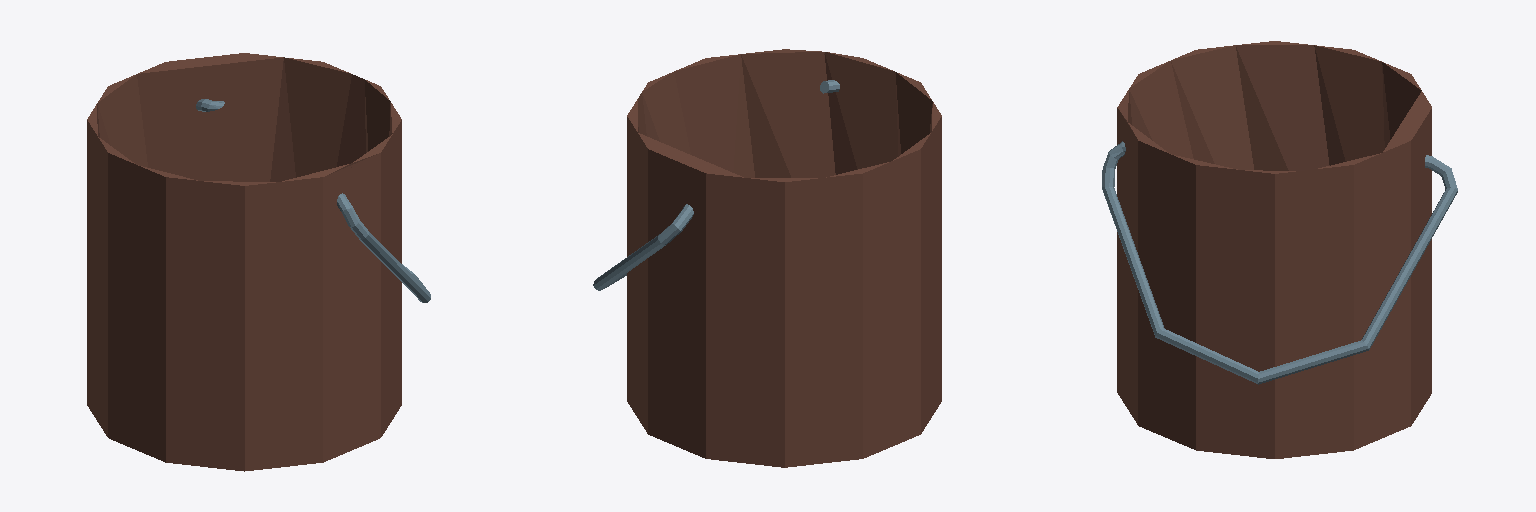
3 views of the same model, side by side, from view 1: azimuth 30°, elevation 25°; view 2: azimuth 150°, elevation 25°; view 3: azimuth 270°, elevation 25° (orthographic).
Parts seen in each view (by area): view 1: group[number redacted], group[number redacted]; view 2: group[number redacted], group[number redacted]; view 3: group[number redacted], group[number redacted].
Boxes of the visible parts, x1,y1,x2,y2 form: group[number redacted]: [87, 53, 401, 471]; group[number redacted]: [196, 99, 430, 302]; group[number redacted]: [627, 49, 941, 467]; group[number redacted]: [593, 80, 839, 290]; group[number redacted]: [1117, 41, 1431, 458]; group[number redacted]: [1102, 141, 1457, 384].
Size of the model in its own units: 1.51 by 1.38 by 1.55.